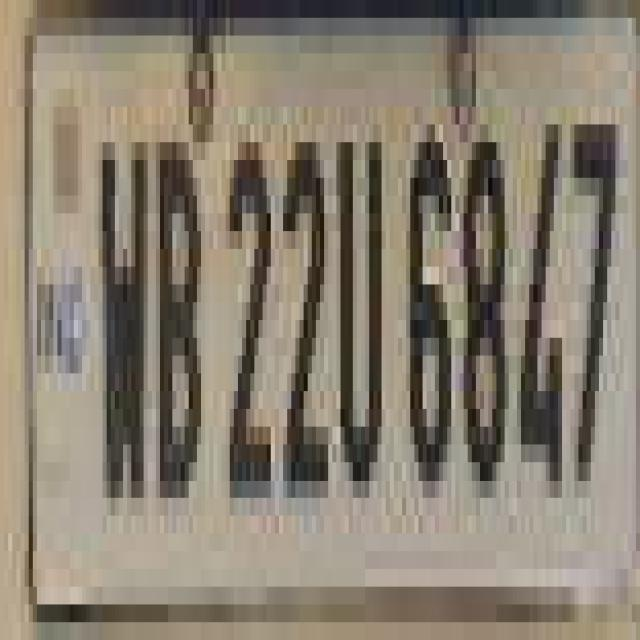license_plate: (16, 0, 639, 604)
